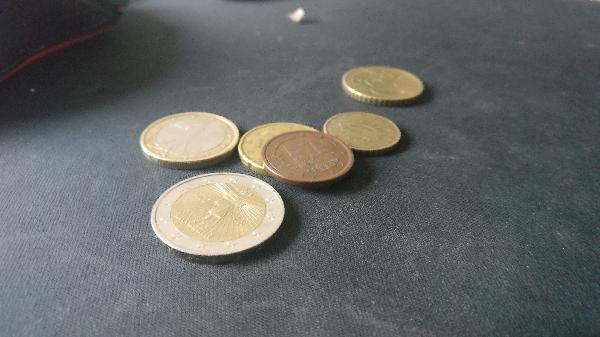Fifty Cent: (345, 62, 428, 106)
Five Cent: (265, 128, 354, 186)
One Euro: (139, 109, 242, 165)
Ten Cent: (327, 113, 404, 154)
Twenty Cent: (237, 121, 323, 175)
Two Euro: (147, 174, 292, 261)
